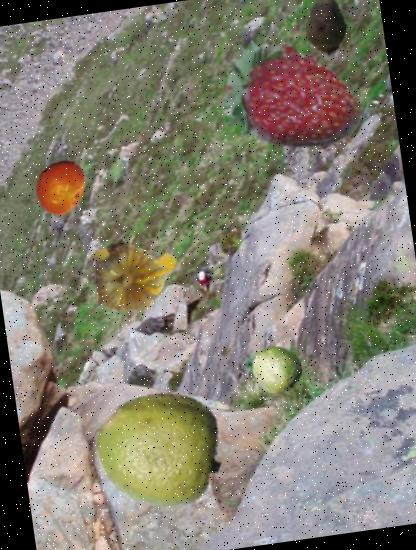Beetroot: (282, 0, 370, 64)
Clementine: (28, 152, 95, 220)
Limes: (87, 374, 232, 519), (248, 340, 306, 398)
Physalis: (81, 222, 188, 330)
Strawberry: (213, 16, 373, 176)
